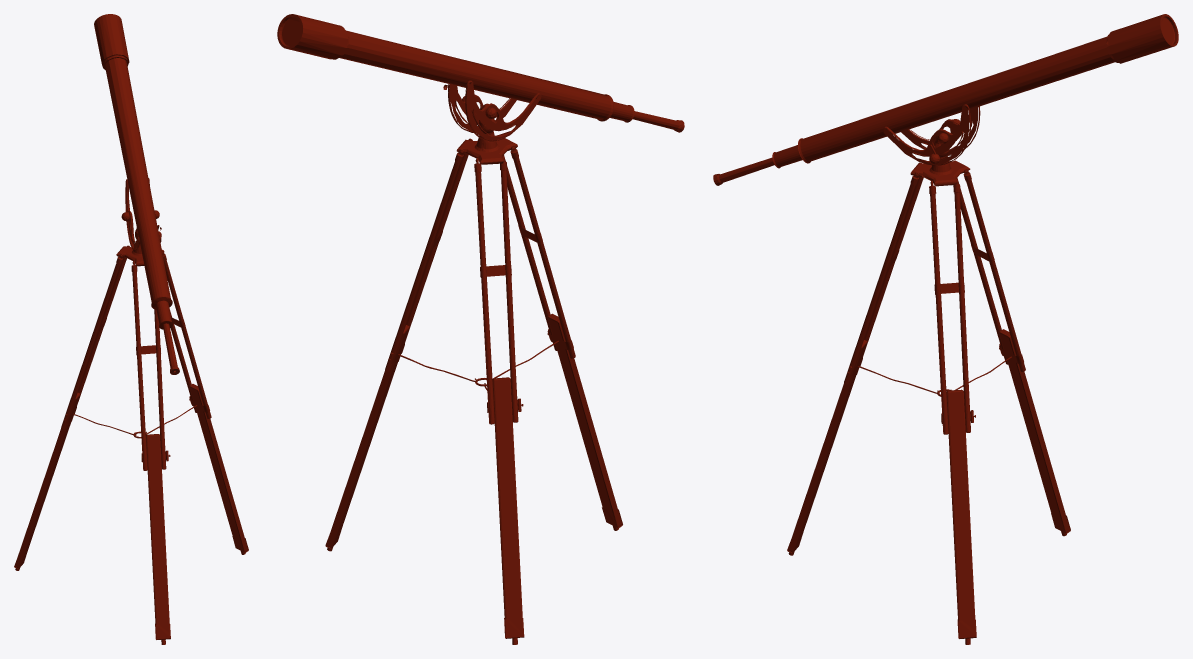
The model's file is telescopio.FBX.
3 renders of one model, left to right at view 1: azimuth 30°, elevation 25°; view 2: azimuth 150°, elevation 25°; view 3: azimuth 270°, elevation 25°, orthographic. The views are drawn at different scales.
Visible parts, largest first — view 1: Telescopio; view 2: Telescopio; view 3: Telescopio.
Boxes of the visible parts, x1,y1,x2,y2 form: Telescopio: [14, 14, 248, 644]; Telescopio: [277, 14, 684, 644]; Telescopio: [713, 14, 1178, 644].
Bounding box in the file's own units: 48.4 × 118 × 83.46.
